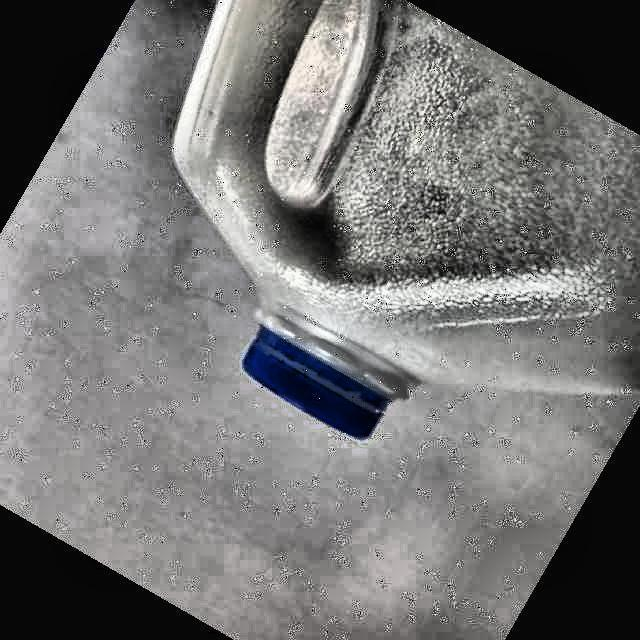plastic: (174, 0, 640, 437)
